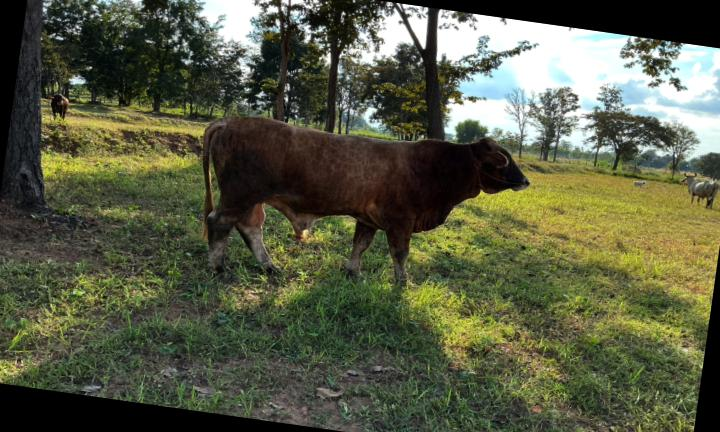Charolais: (202, 116, 528, 284)
